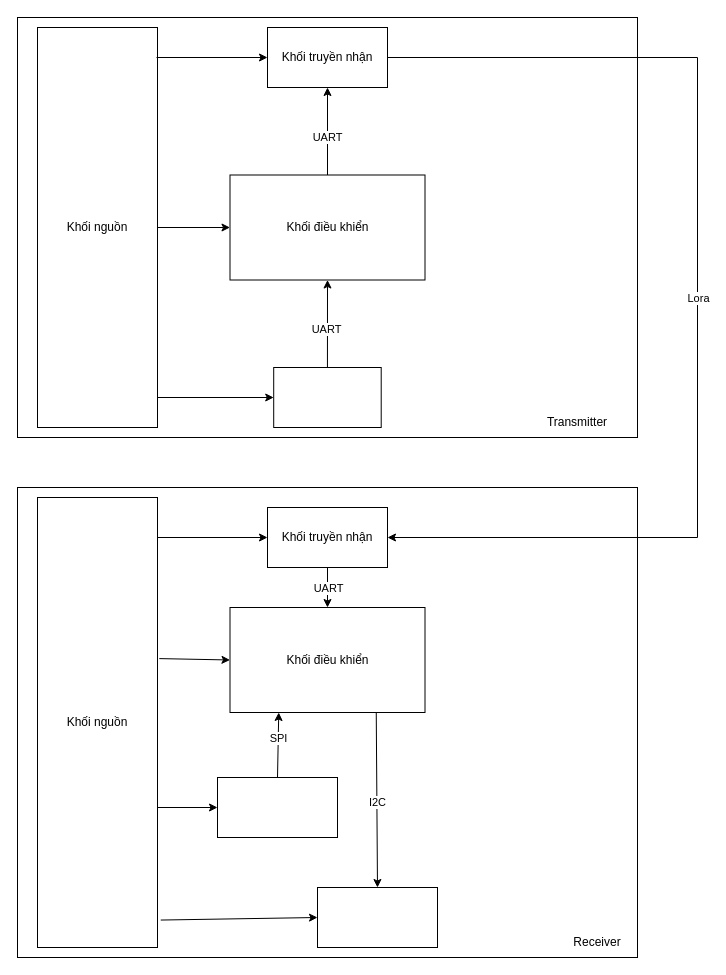
This 726x975 diagram has some shape labels left out. Each missing label, with the centre of its shape:
"Khối hiển thị" goes at point (377, 917).
"Khối RFID" goes at point (277, 807).
"Khối định vị" goes at point (327, 397).
